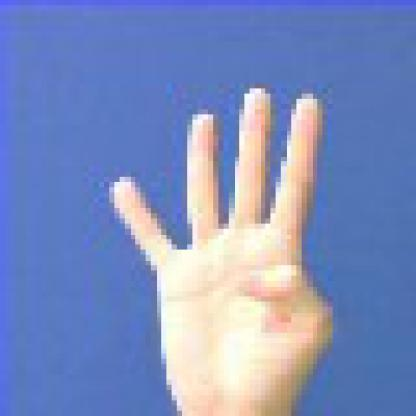four: (93, 78, 358, 411)
